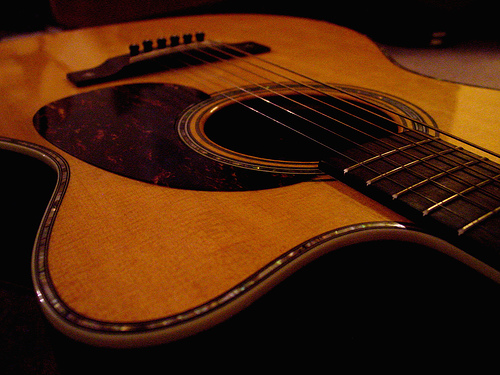guitar: (1, 13, 497, 337)
